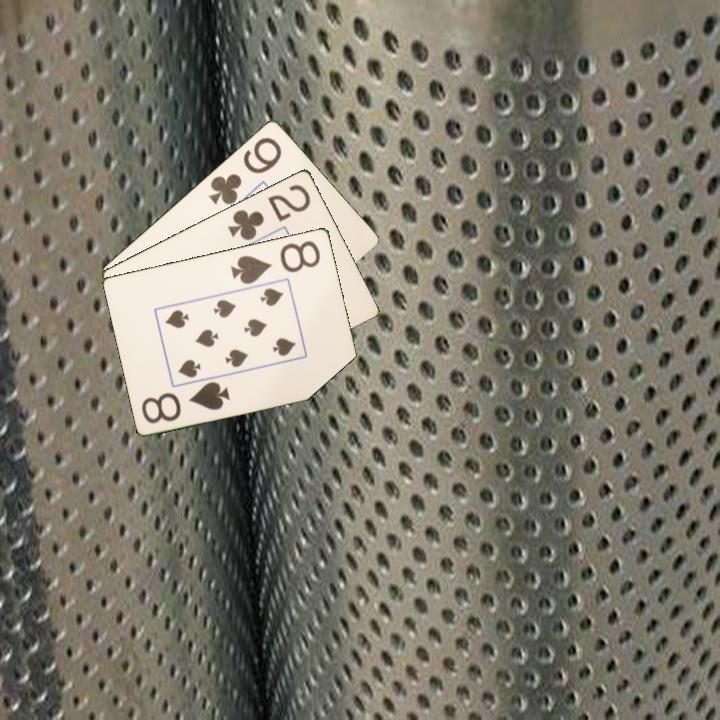2c: (224, 180, 314, 243)
8s: (227, 237, 323, 287), (138, 378, 233, 426)
9c: (205, 133, 285, 207)
